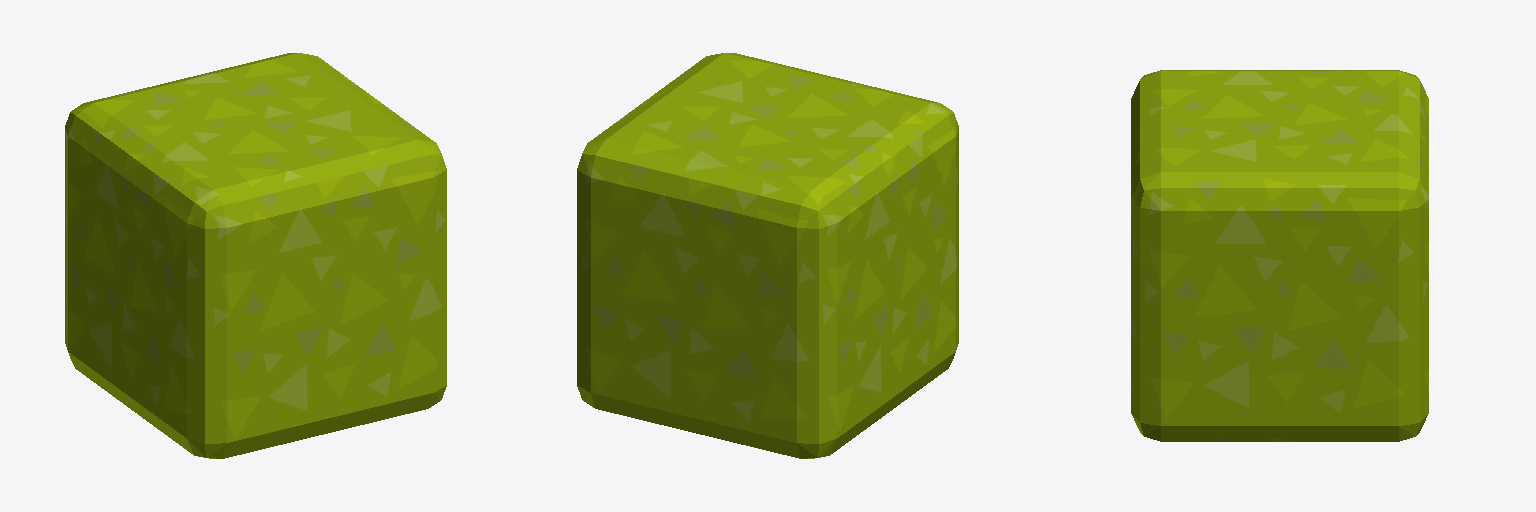
3 renders of one model, left to right at view 1: azimuth 30°, elevation 25°; view 2: azimuth 150°, elevation 25°; view 3: azimuth 270°, elevation 25°, orthographic.
Parts seen in each view (by area): view 1: Cube; view 2: Cube; view 3: Cube.
Boxes of the visible parts, x1,y1,x2,y2 form: Cube: [65, 53, 446, 458]; Cube: [577, 53, 958, 458]; Cube: [1131, 70, 1428, 441].
Bounding box in the file's own units: 1 × 1 × 1.
Materials: 1 (1 with a texture image).